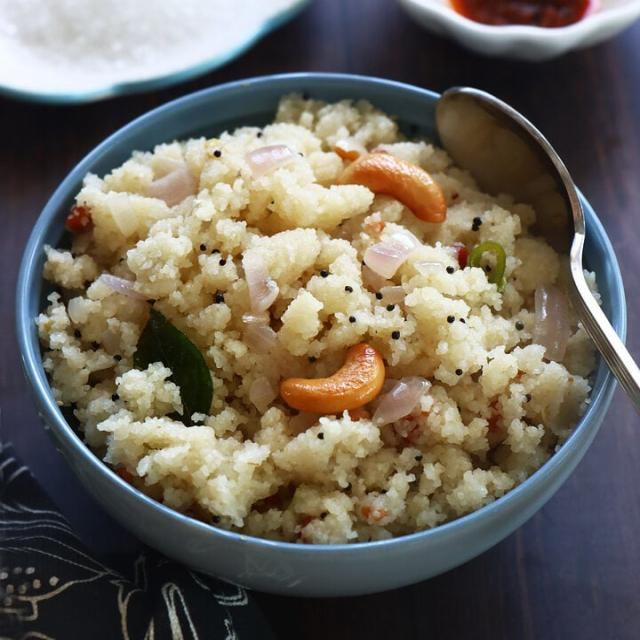UPMA: (32, 95, 589, 539)
